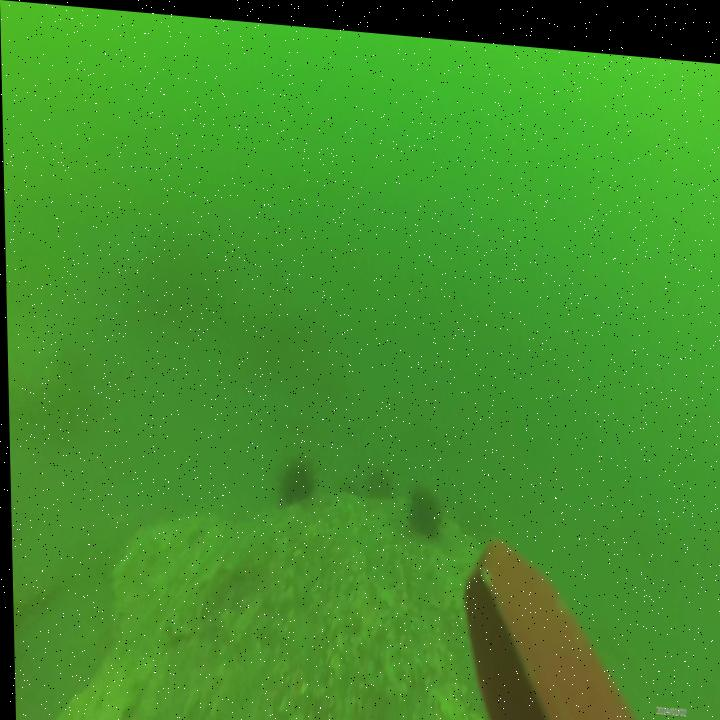echinus: (272, 448, 317, 508), (402, 477, 445, 535)
